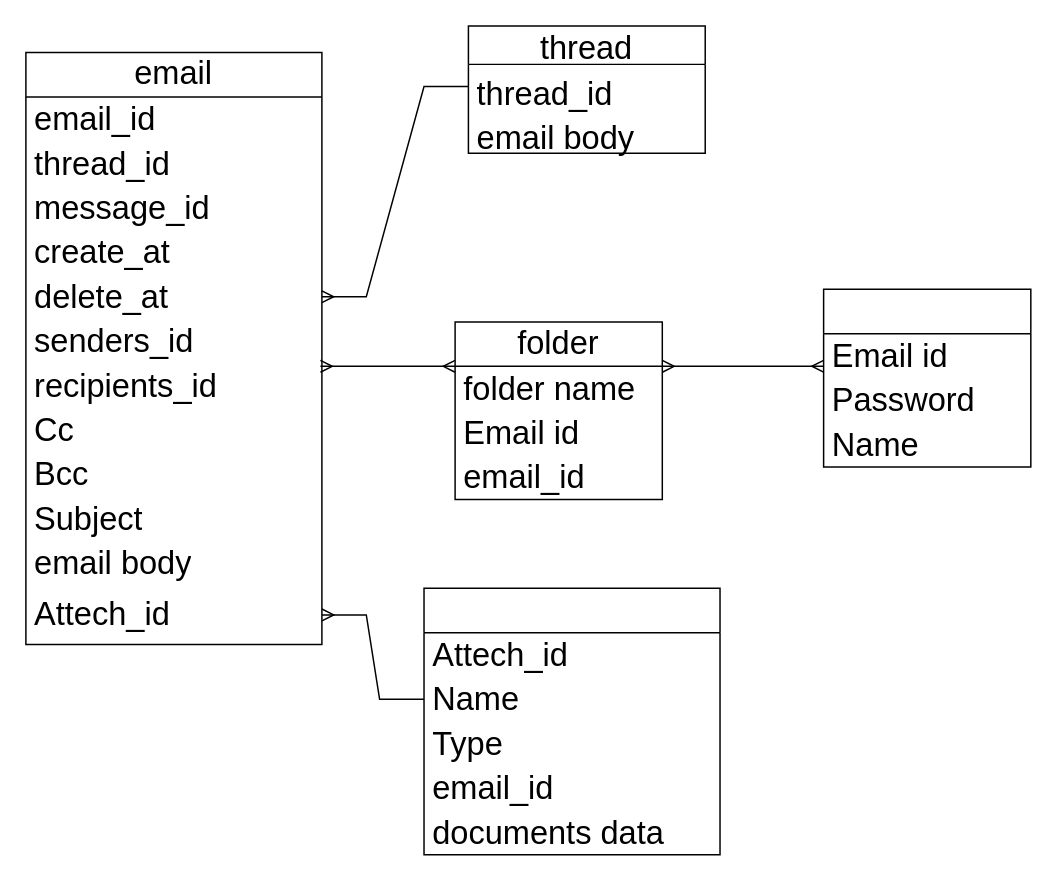
This 1057x881 diagram has some shape labels left out. Here are the shapes that lost their labels. From the top down, the box of each, then its label:
(822, 288, 1031, 467): User
(423, 587, 720, 855): attechments
